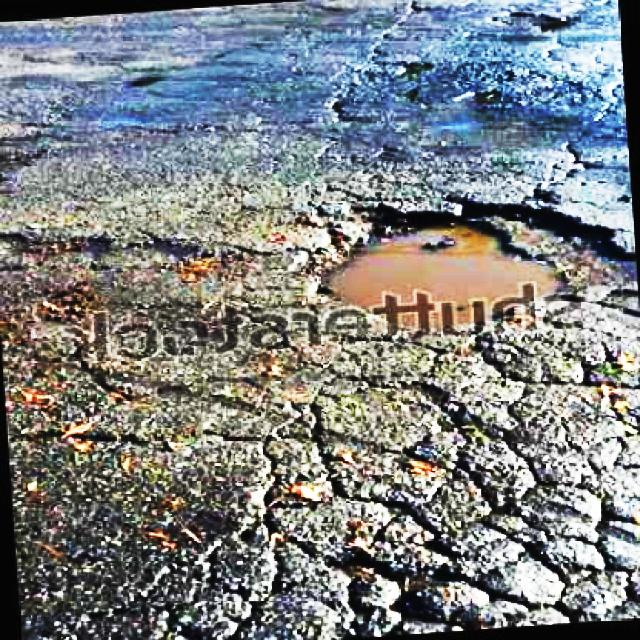pothole: (284, 500, 640, 640), (306, 197, 640, 346)
